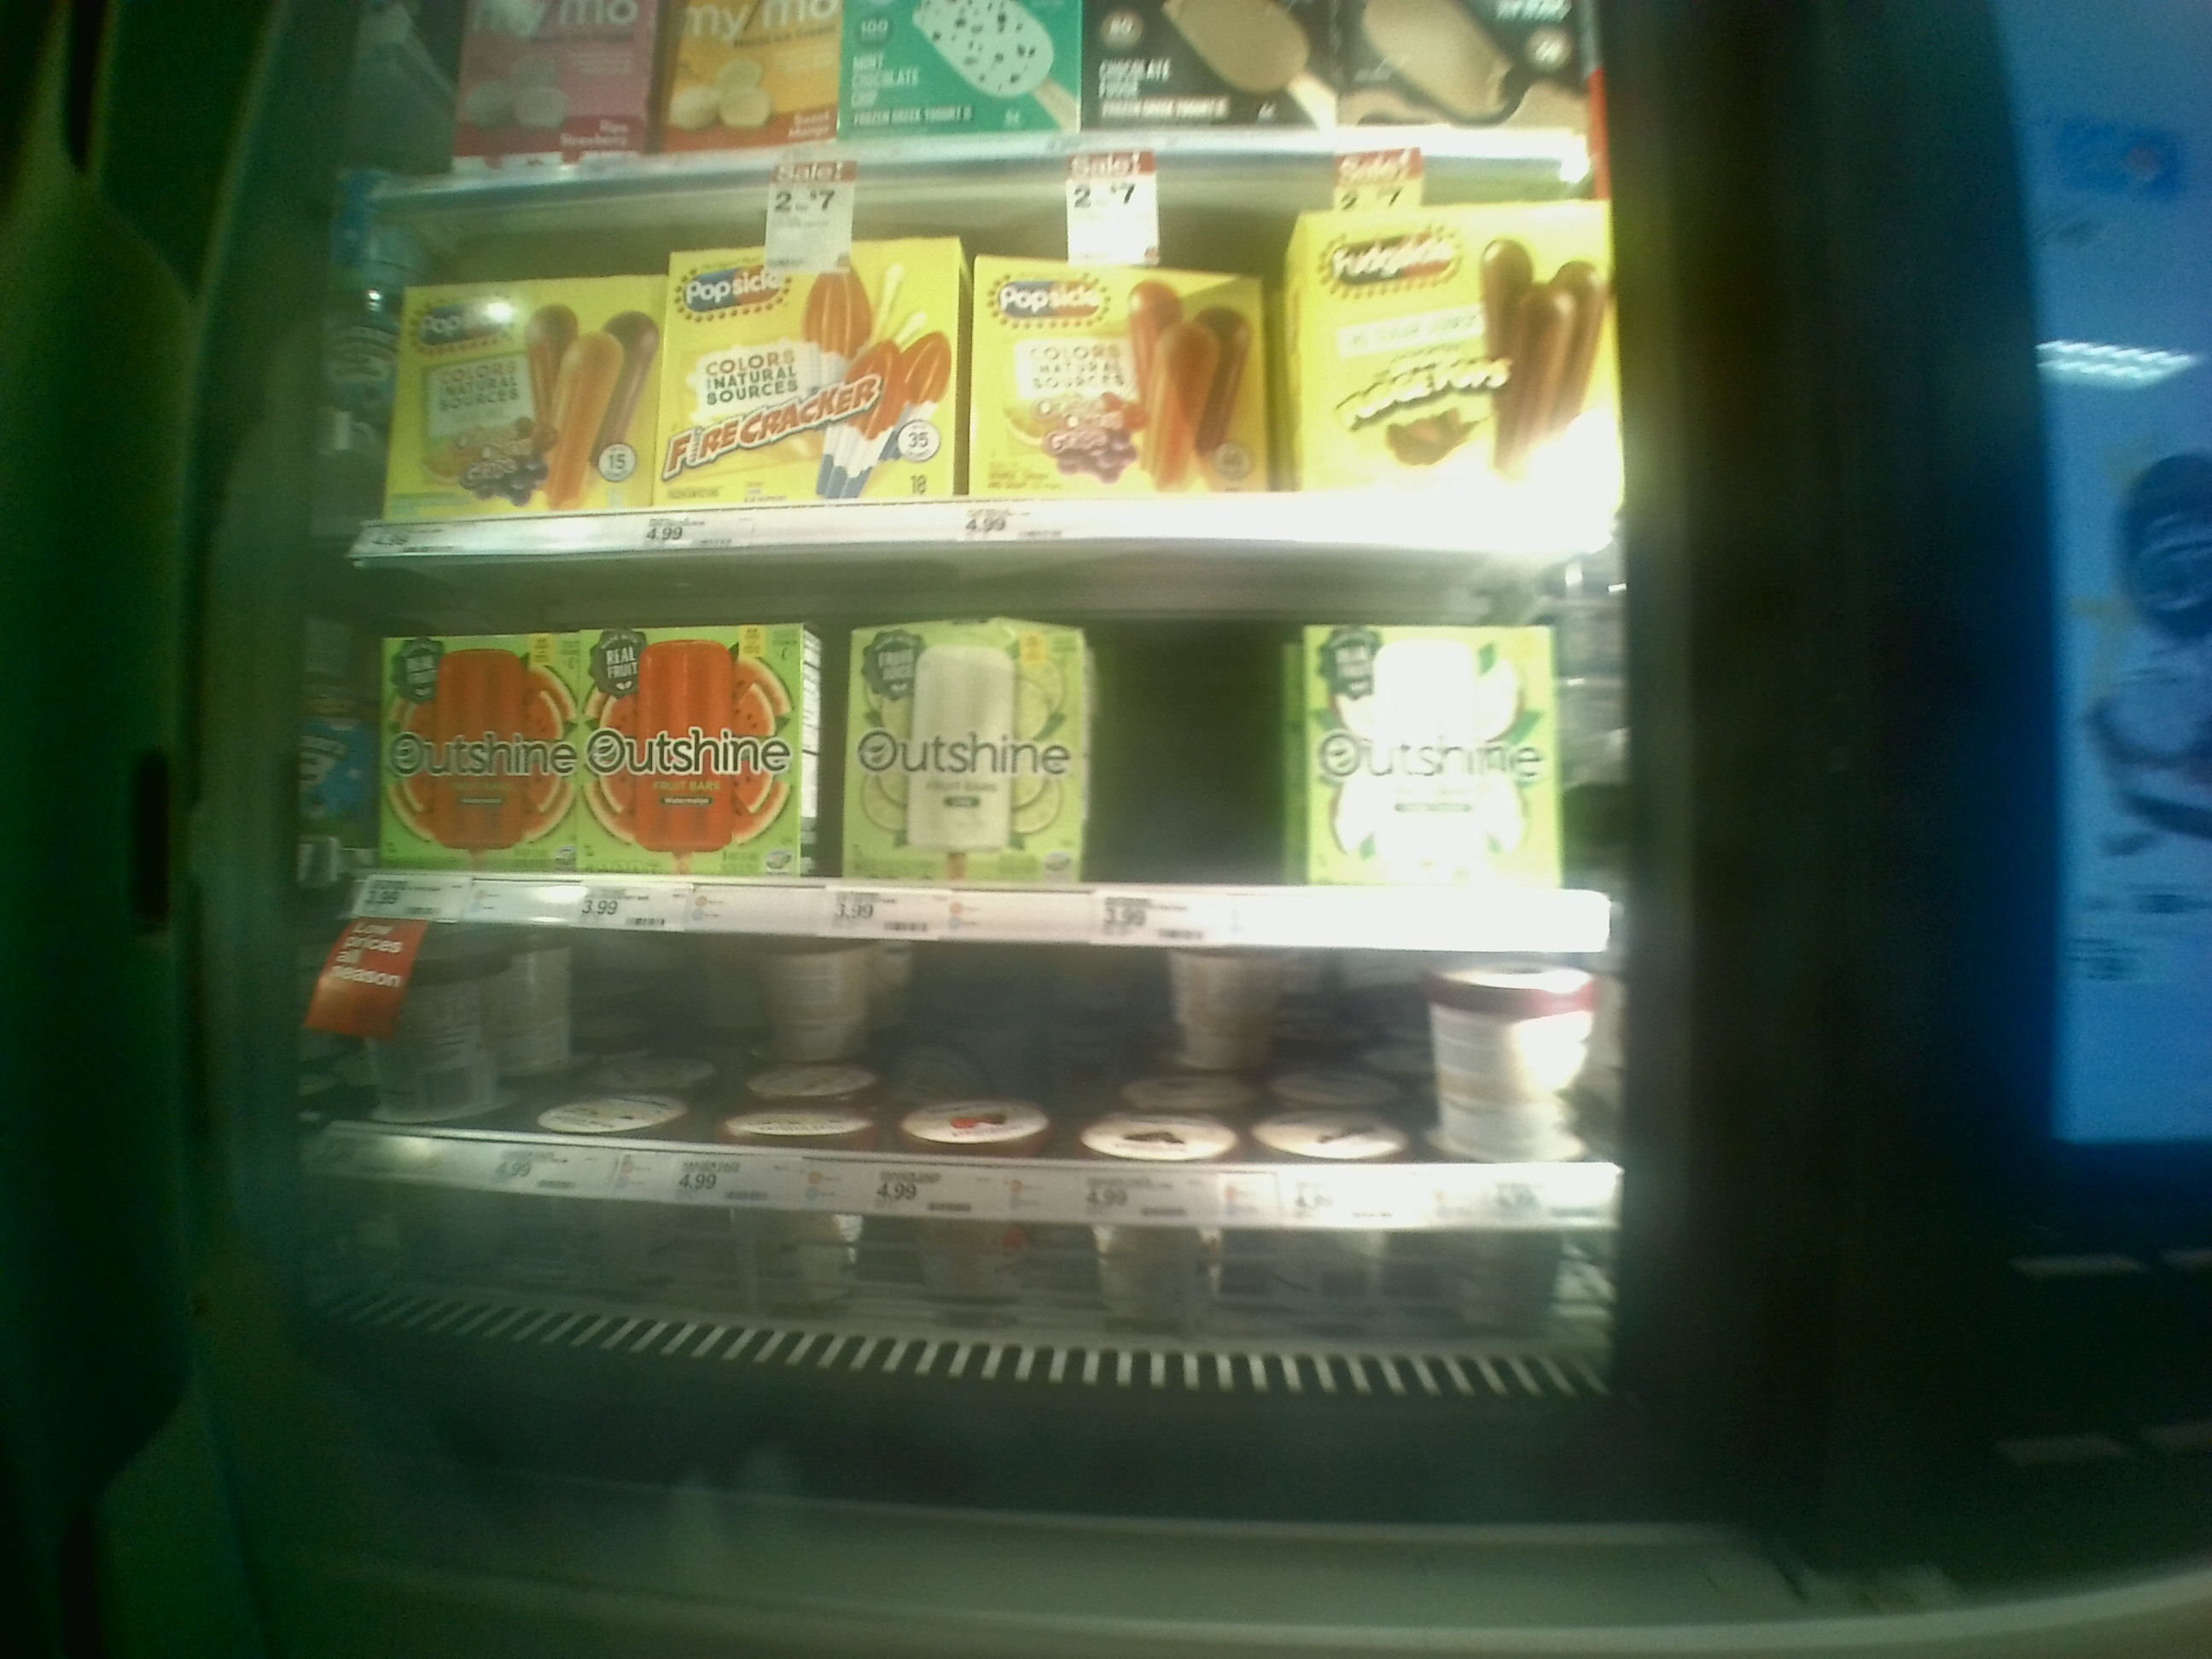shelf: (348, 917, 1651, 1309), (348, 547, 1651, 938), (350, 186, 1601, 551)
